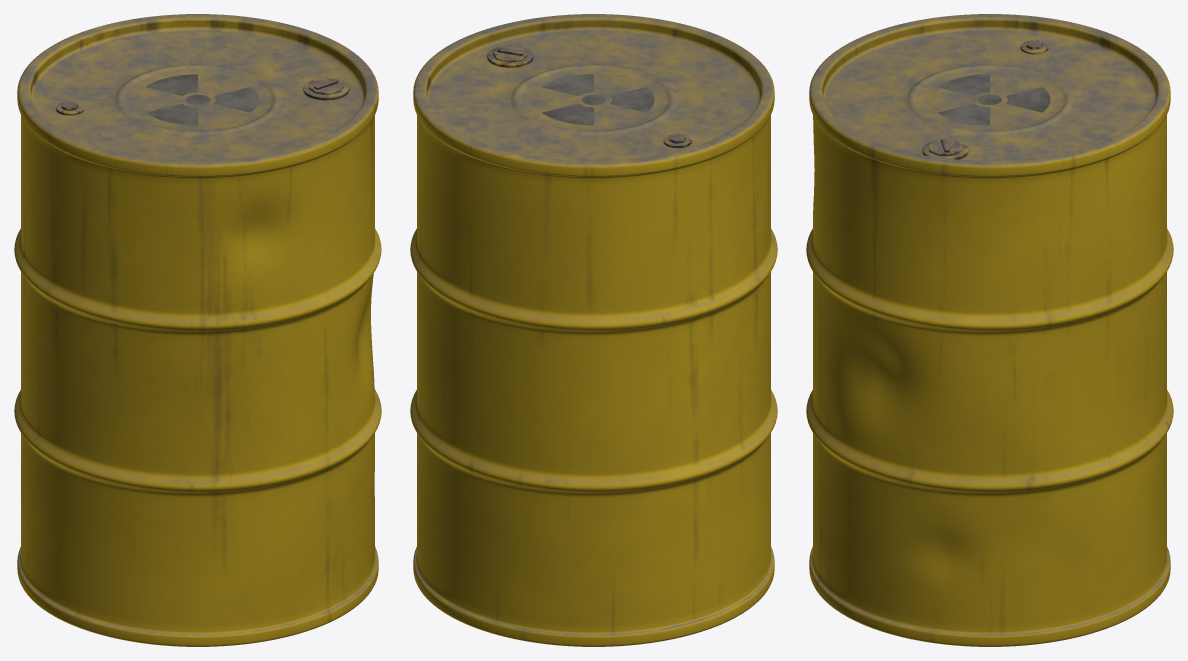
The model's file is SM_OilDrum_Yellow_Radioactive.fbx.
The picture shows the model from 3 angles, left to right: view 1: azimuth 30°, elevation 25°; view 2: azimuth 150°, elevation 25°; view 3: azimuth 270°, elevation 25°; orthographic projection.
Parts seen in each view (by area): view 1: SM_OilDrum_Yellow_Radioactive; view 2: SM_OilDrum_Yellow_Radioactive; view 3: SM_OilDrum_Yellow_Radioactive.
Part boxes in pixels (bbox=[...]): SM_OilDrum_Yellow_Radioactive: bbox=[14, 14, 381, 646]; SM_OilDrum_Yellow_Radioactive: bbox=[410, 14, 777, 646]; SM_OilDrum_Yellow_Radioactive: bbox=[806, 14, 1173, 646].
Bounding box in the file's own units: 0.607 × 0.88 × 0.607.
Materials: 1 (1 with a texture image).
